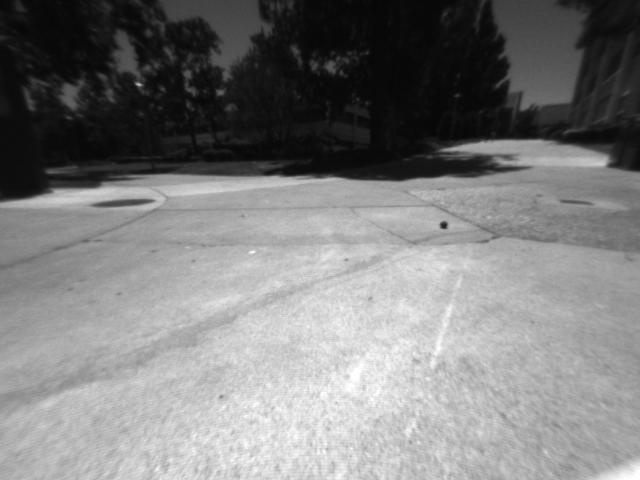dogtoy: (433, 213, 454, 233)
